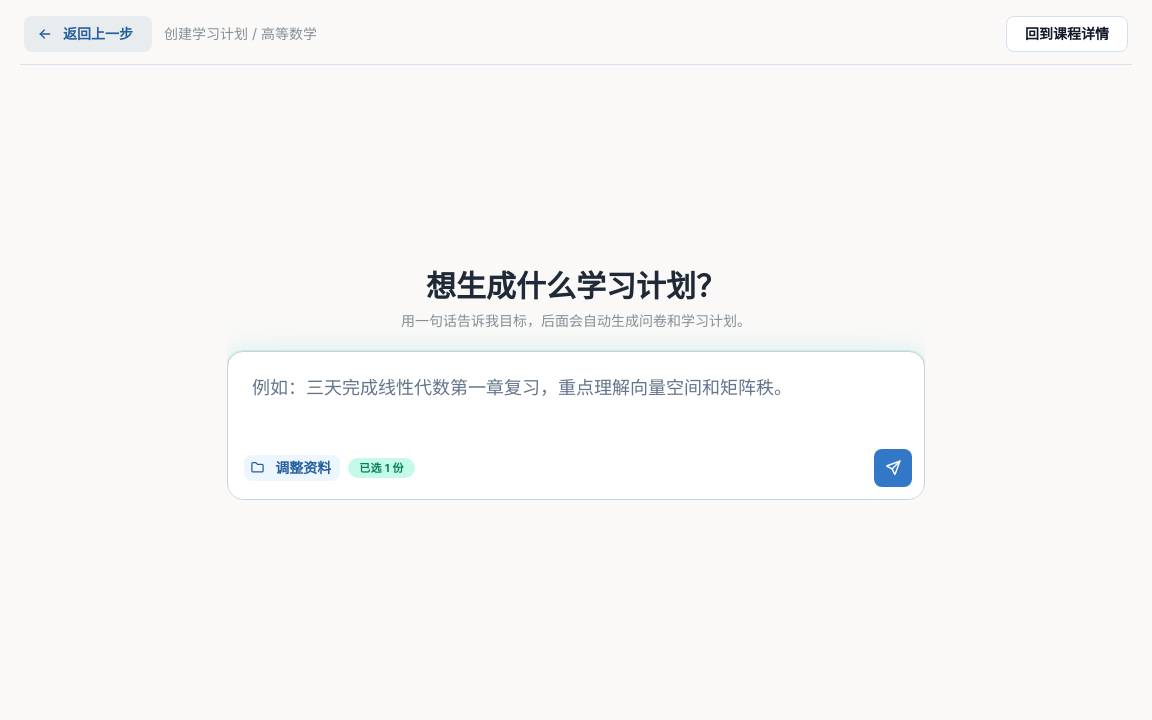
Test: study plan pages › keeps a selected material available while its replacement version is parsing
Expected: the text "已选 1 份" is shown, [359, 459, 404, 477]
Hover over the button "调整资料": (292, 468) [244, 455, 340, 481]
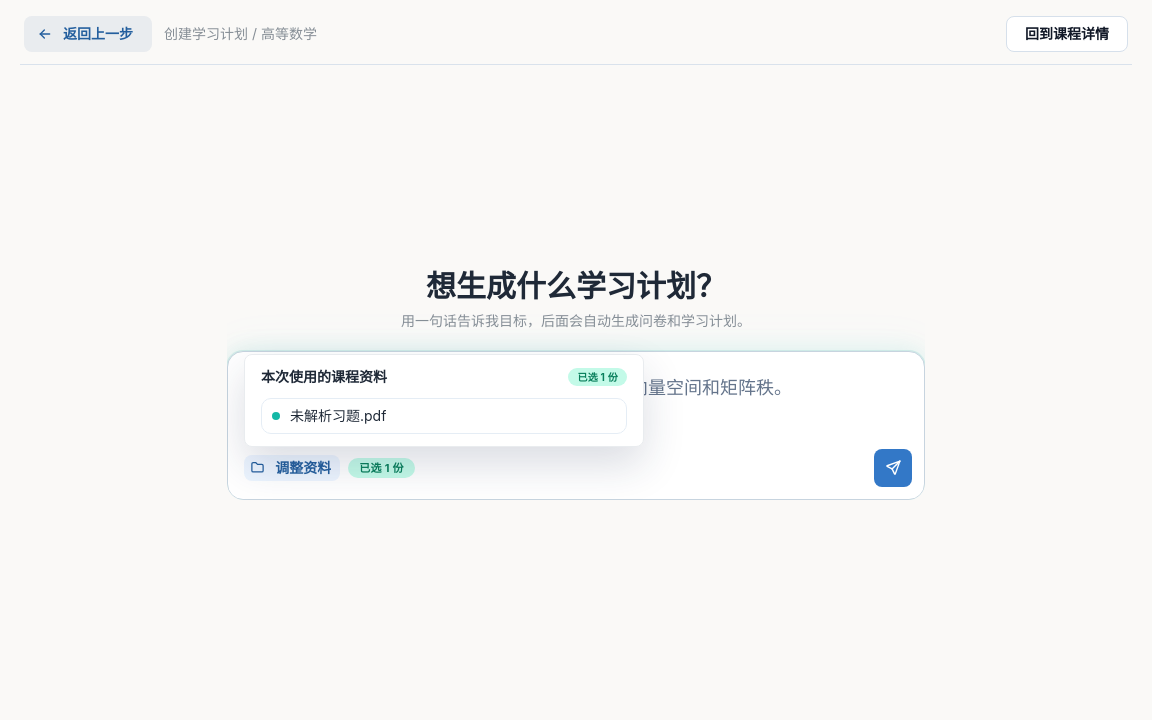
Expected: the text "未解析习题.pdf" is shown, [290, 406, 386, 426]
Click the button "调整资料": (292, 468) [244, 455, 340, 481]
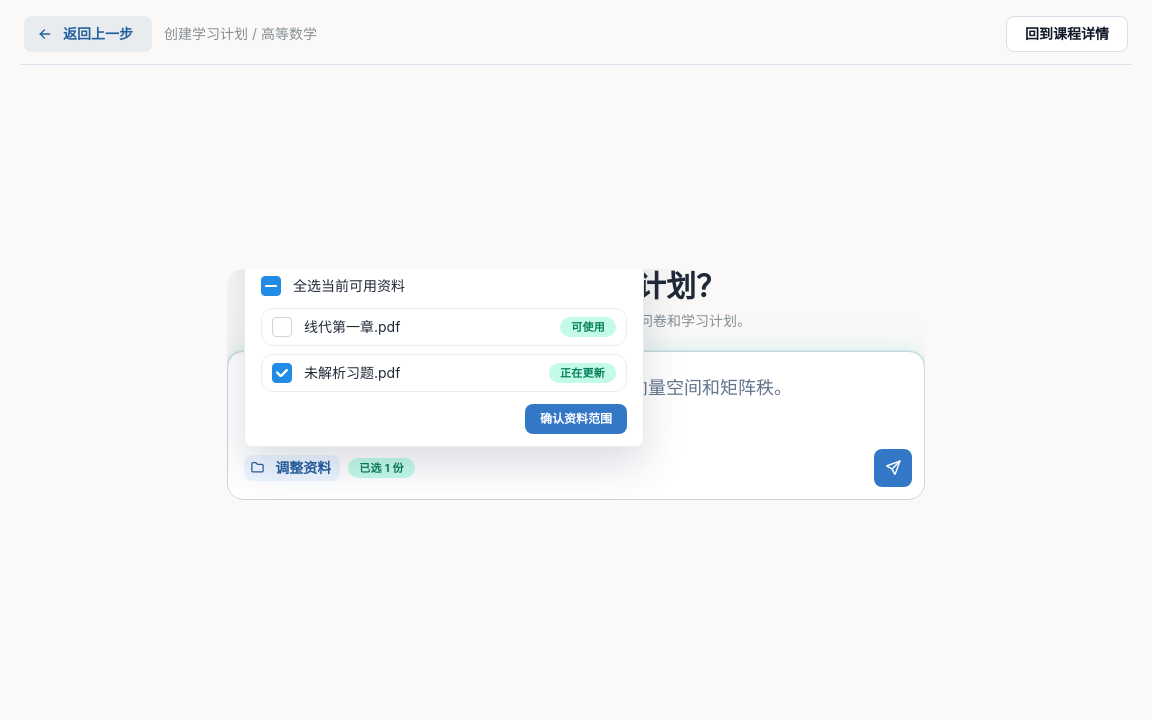
Expected: the checkbox labelled "未解析习题.pdf" is enabled, [272, 363, 292, 383]
Expected: the checkbox labelled "未解析习题.pdf" is checked, [272, 363, 292, 383]
Expected: the text "正在更新" is shown, [560, 364, 605, 382]
